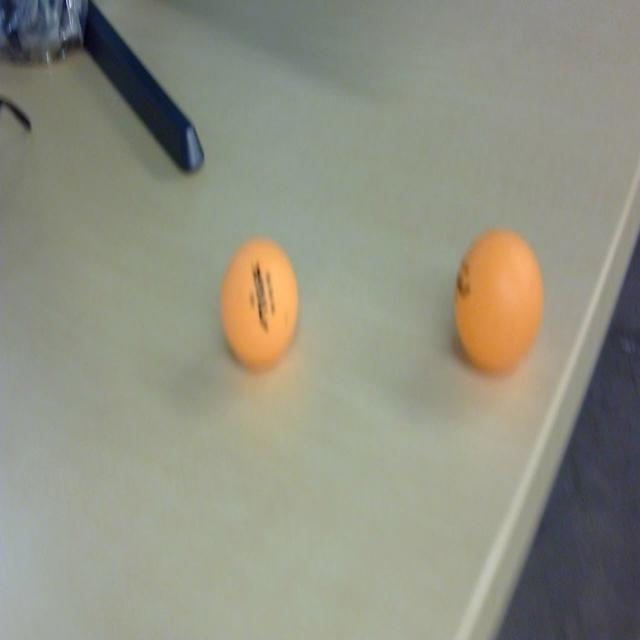ball: (453, 225, 542, 376), (217, 234, 302, 376)
